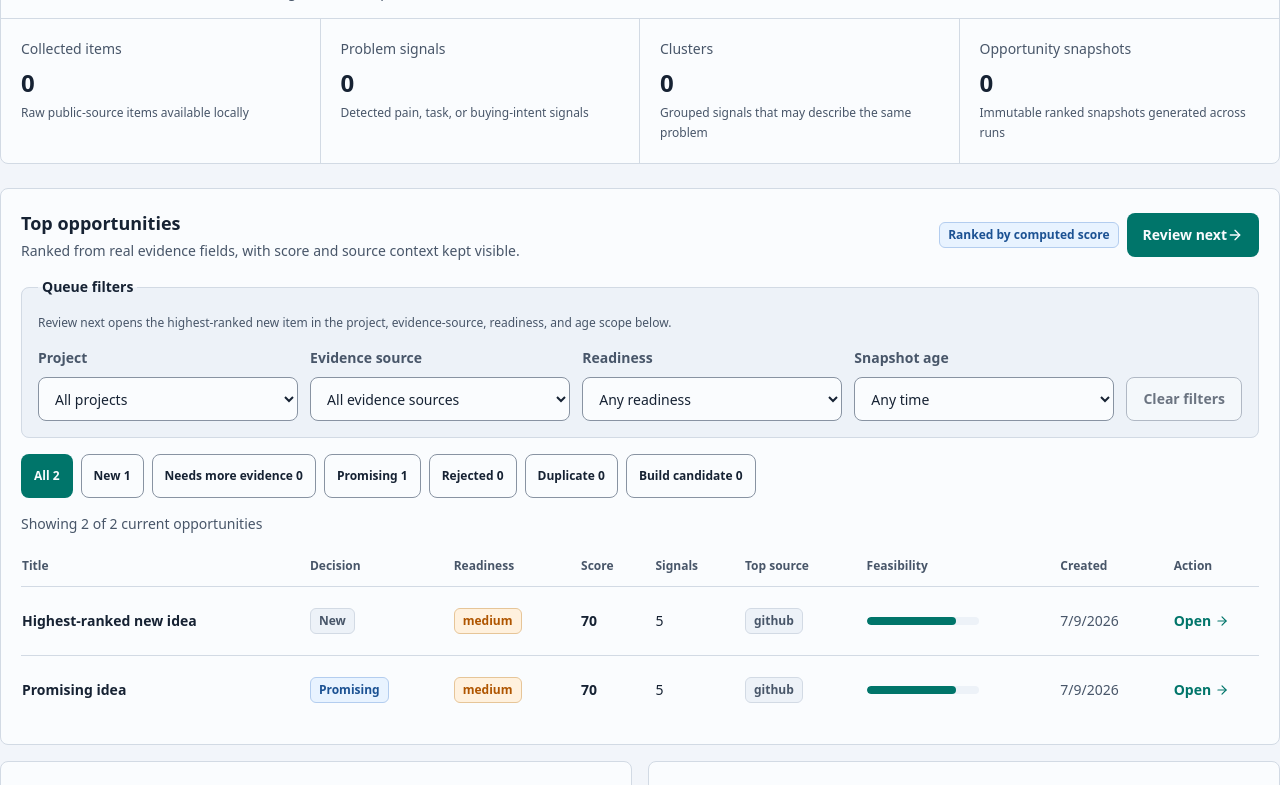
Dashboard › applies accessible queue filters and links to the next new item
(page scrolled)
Expected: the element "Queue filters" is shown, [21,277,1259,438]
Select "CI research" in the dropdown labelled "Project" at (168, 399), box [38,377,298,421]
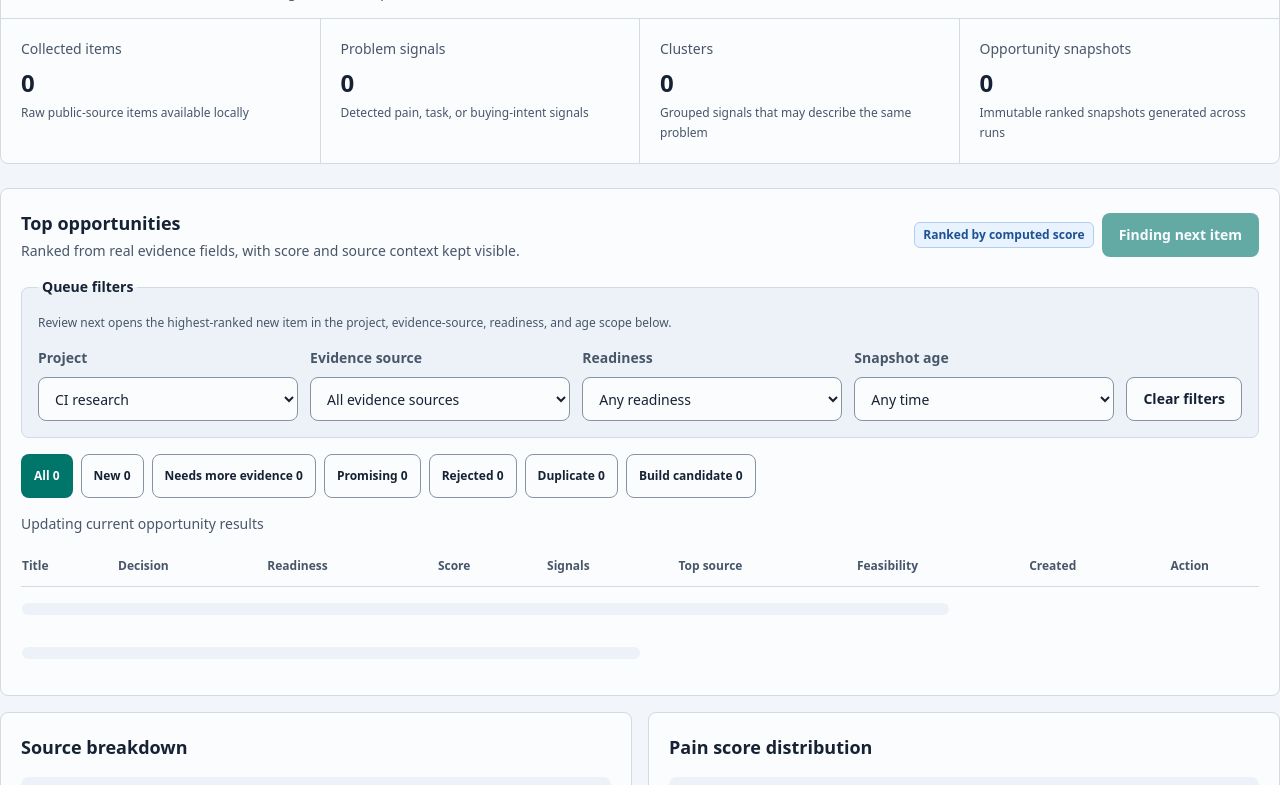
Select "github" in the dropdown labelled "Evidence source" at (440, 399), box [310,377,570,421]
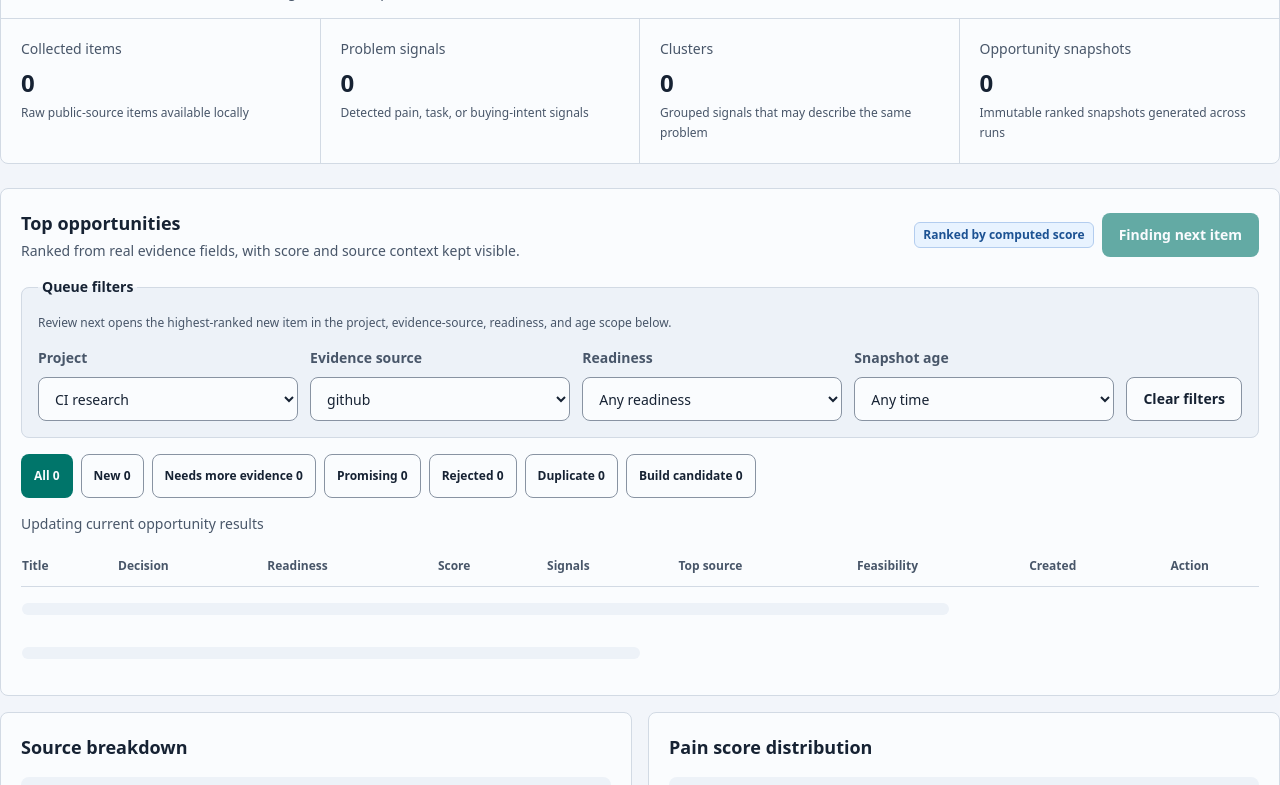
Select "Medium" in the dropdown labelled "Readiness" at (712, 399), box [582,377,842,421]
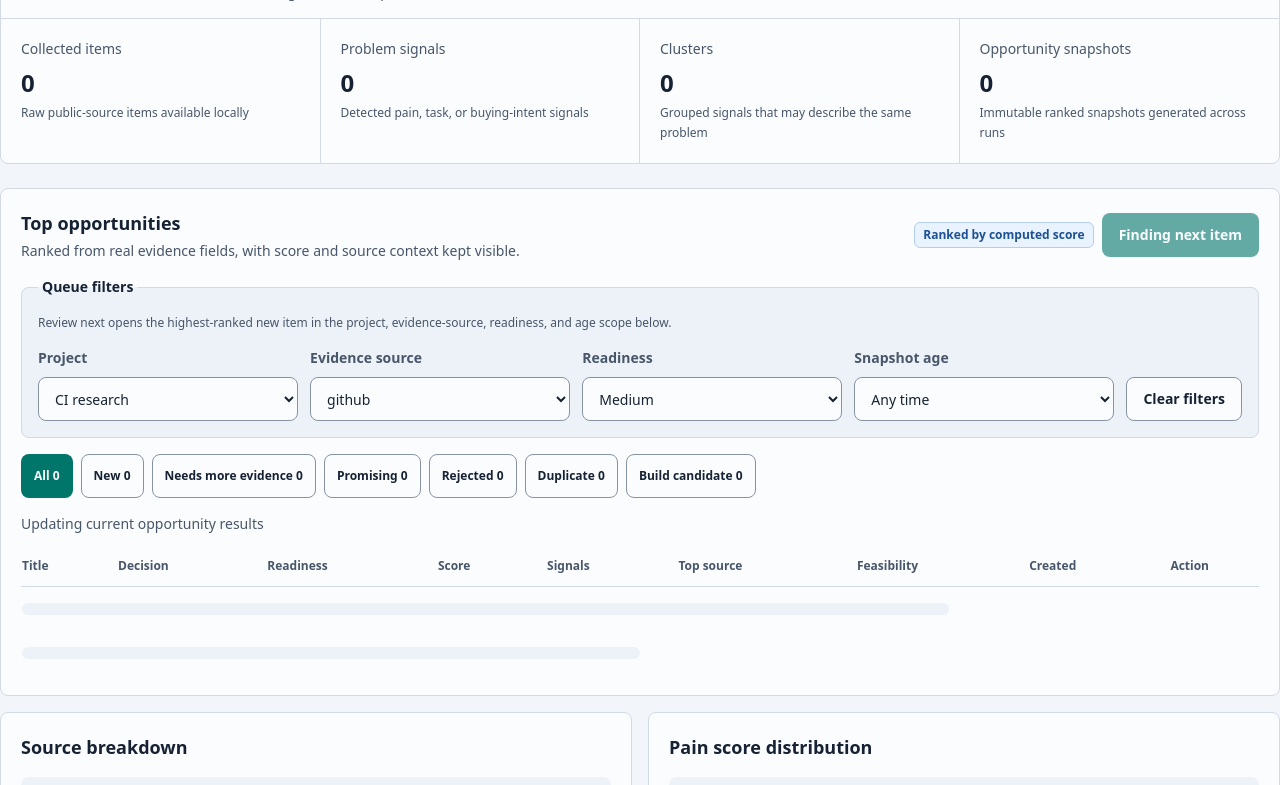
Select "Last 30 days" in the dropdown labelled "Snapshot age" at (984, 399), box [854,377,1114,421]
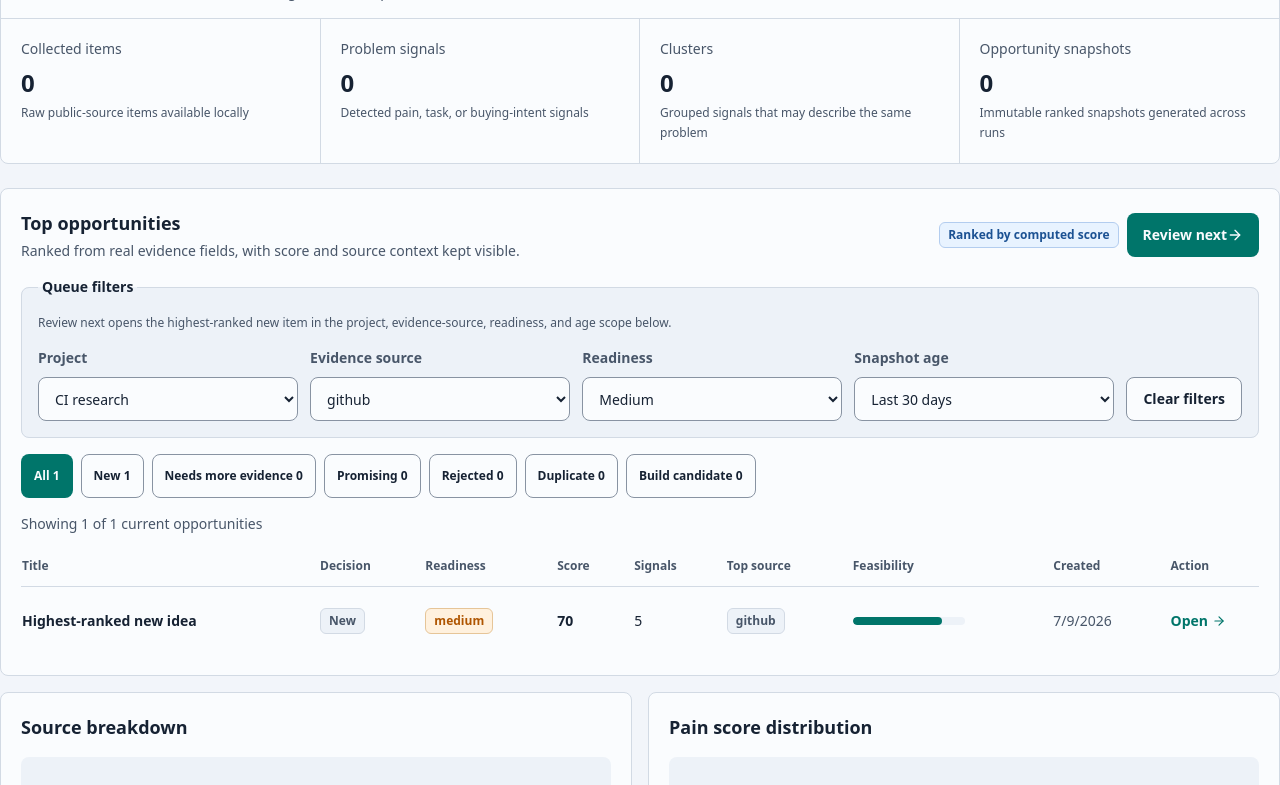
Now the button "All 1" is shown, box [21,454,73,498]
Now the button "New 1" is shown, box [81,454,144,498]
Click the button "Clear filters".
click(1184, 399)  # box [1126,377,1242,421]
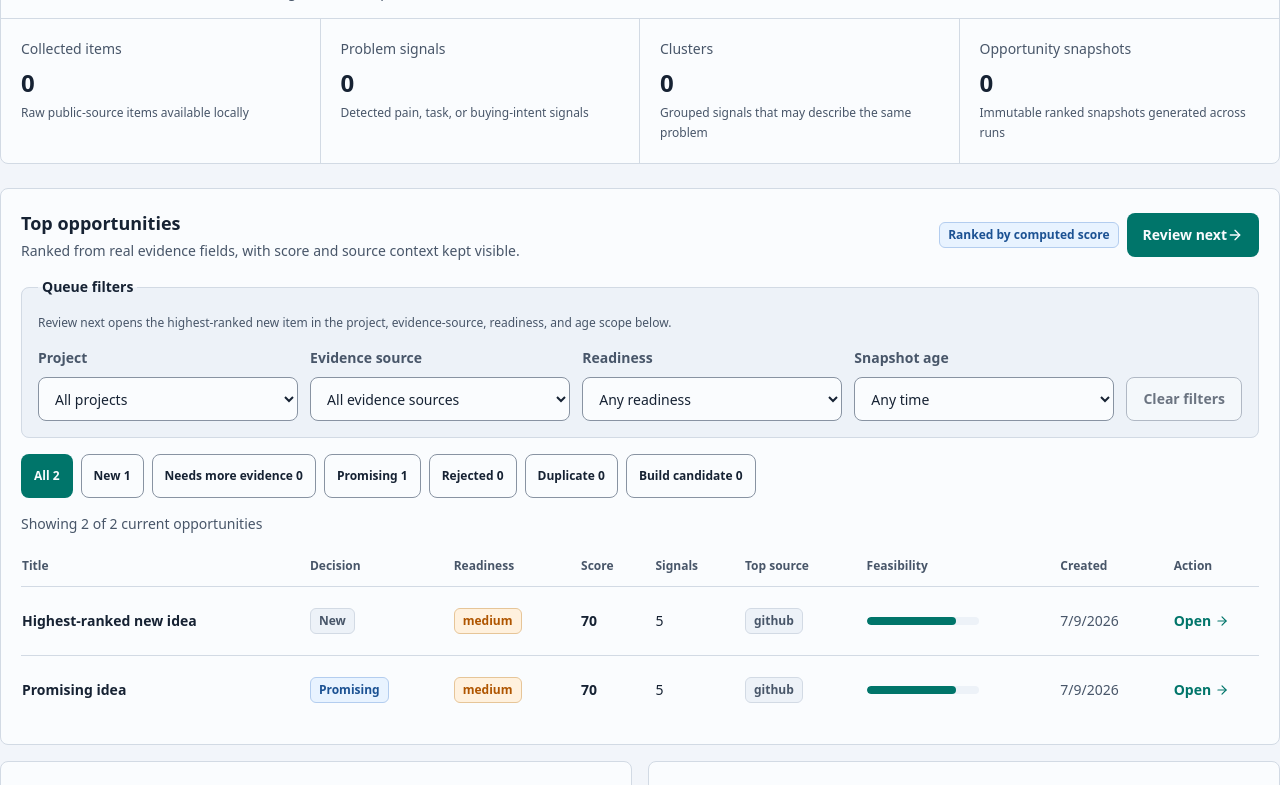
Now the button "Clear filters" is disabled, box [1126,377,1242,421]
